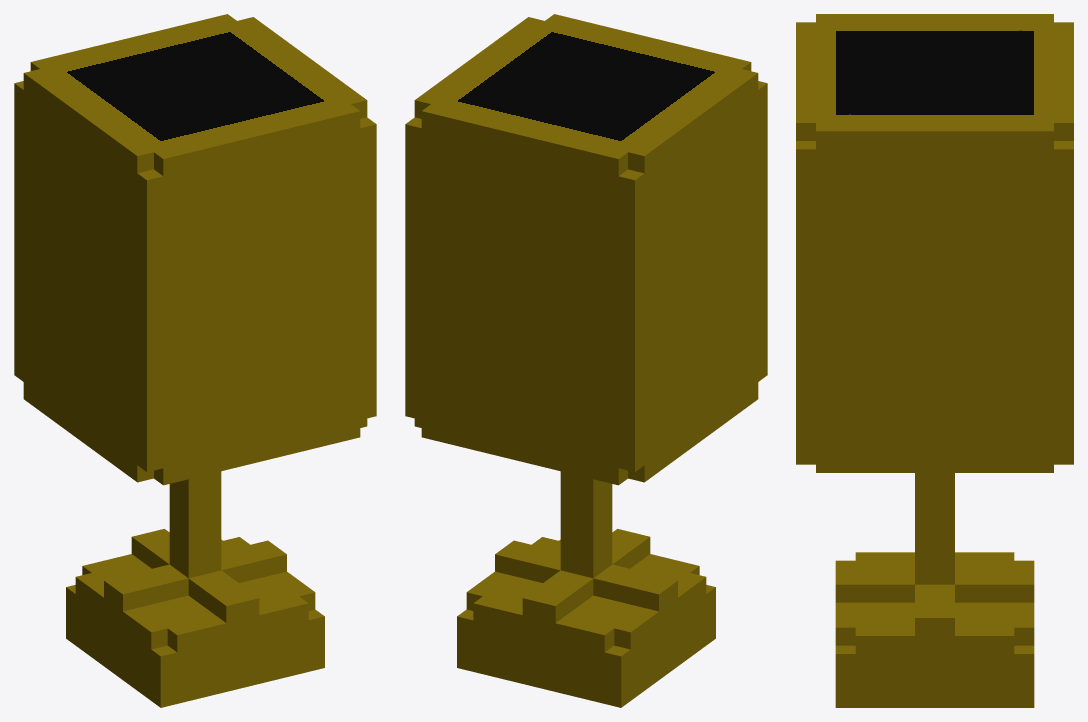
File: GoldItem.fbx
The picture shows the model from 3 angles, left to right: view 1: azimuth 30°, elevation 25°; view 2: azimuth 150°, elevation 25°; view 3: azimuth 270°, elevation 25°; orthographic projection. The views are drawn at different scales.
Parts seen in each view (by area): view 1: Matrix; view 2: Matrix; view 3: Matrix.
Part boxes in pixels (box(x1,y1,x2,y2)): Matrix: box(14, 14, 376, 707); Matrix: box(405, 14, 767, 707); Matrix: box(796, 14, 1073, 707).
Size of the model in its own units: 14 by 33 by 14.
Materials: 1 (1 with a texture image).
